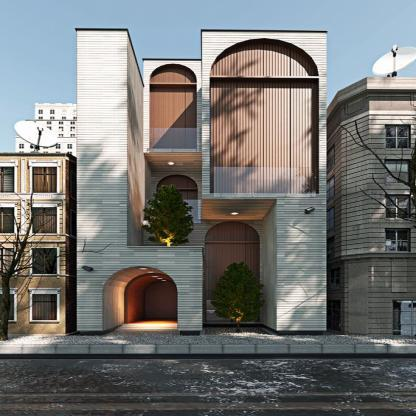Balcony: (210, 167, 319, 193), (205, 300, 260, 322), (150, 128, 196, 149), (157, 200, 198, 220)
Building Outline: (74, 28, 329, 336)
Door: (102, 266, 178, 331)
Facade: (74, 28, 329, 335)
Floor Slab: (201, 193, 327, 199), (142, 149, 202, 153)
Window: (210, 78, 319, 193), (205, 243, 260, 322), (210, 38, 319, 76), (150, 84, 196, 149), (157, 189, 198, 219), (205, 221, 260, 241), (150, 64, 197, 83), (156, 175, 198, 188)
